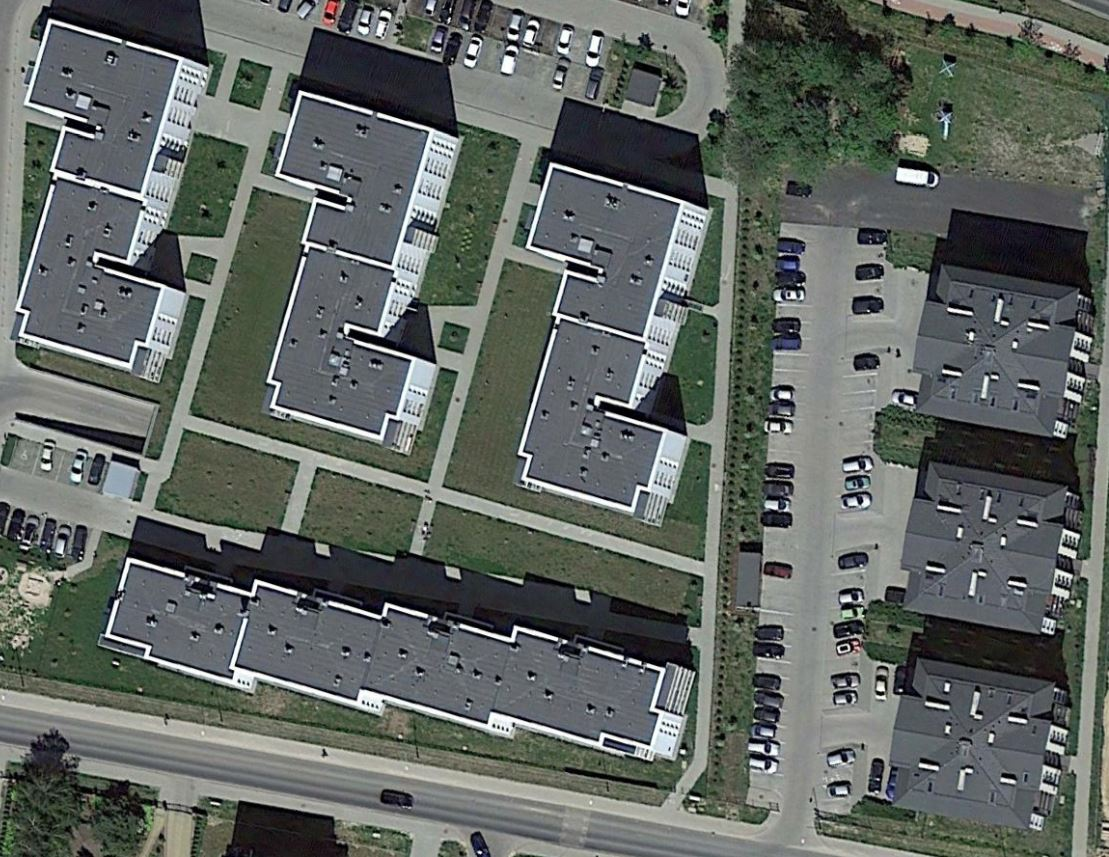block of flats: (96, 538, 703, 773), (505, 148, 723, 530), (255, 82, 469, 462), (6, 9, 218, 391), (906, 246, 1099, 447), (895, 453, 1084, 641), (881, 650, 1072, 834)
